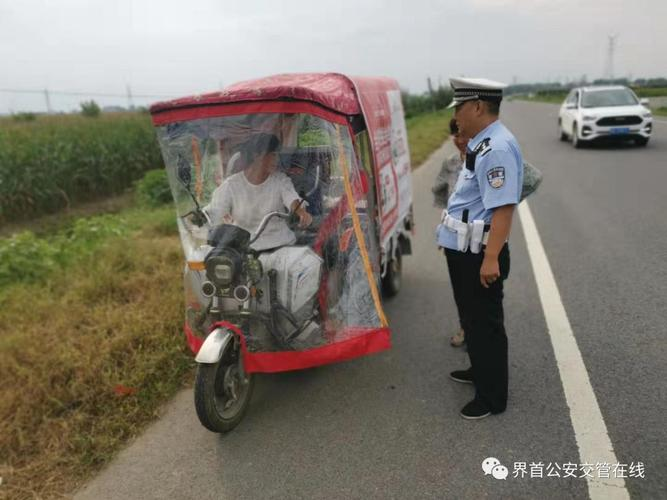driver: (179, 130, 346, 387)
only_driver: (101, 35, 432, 426)
